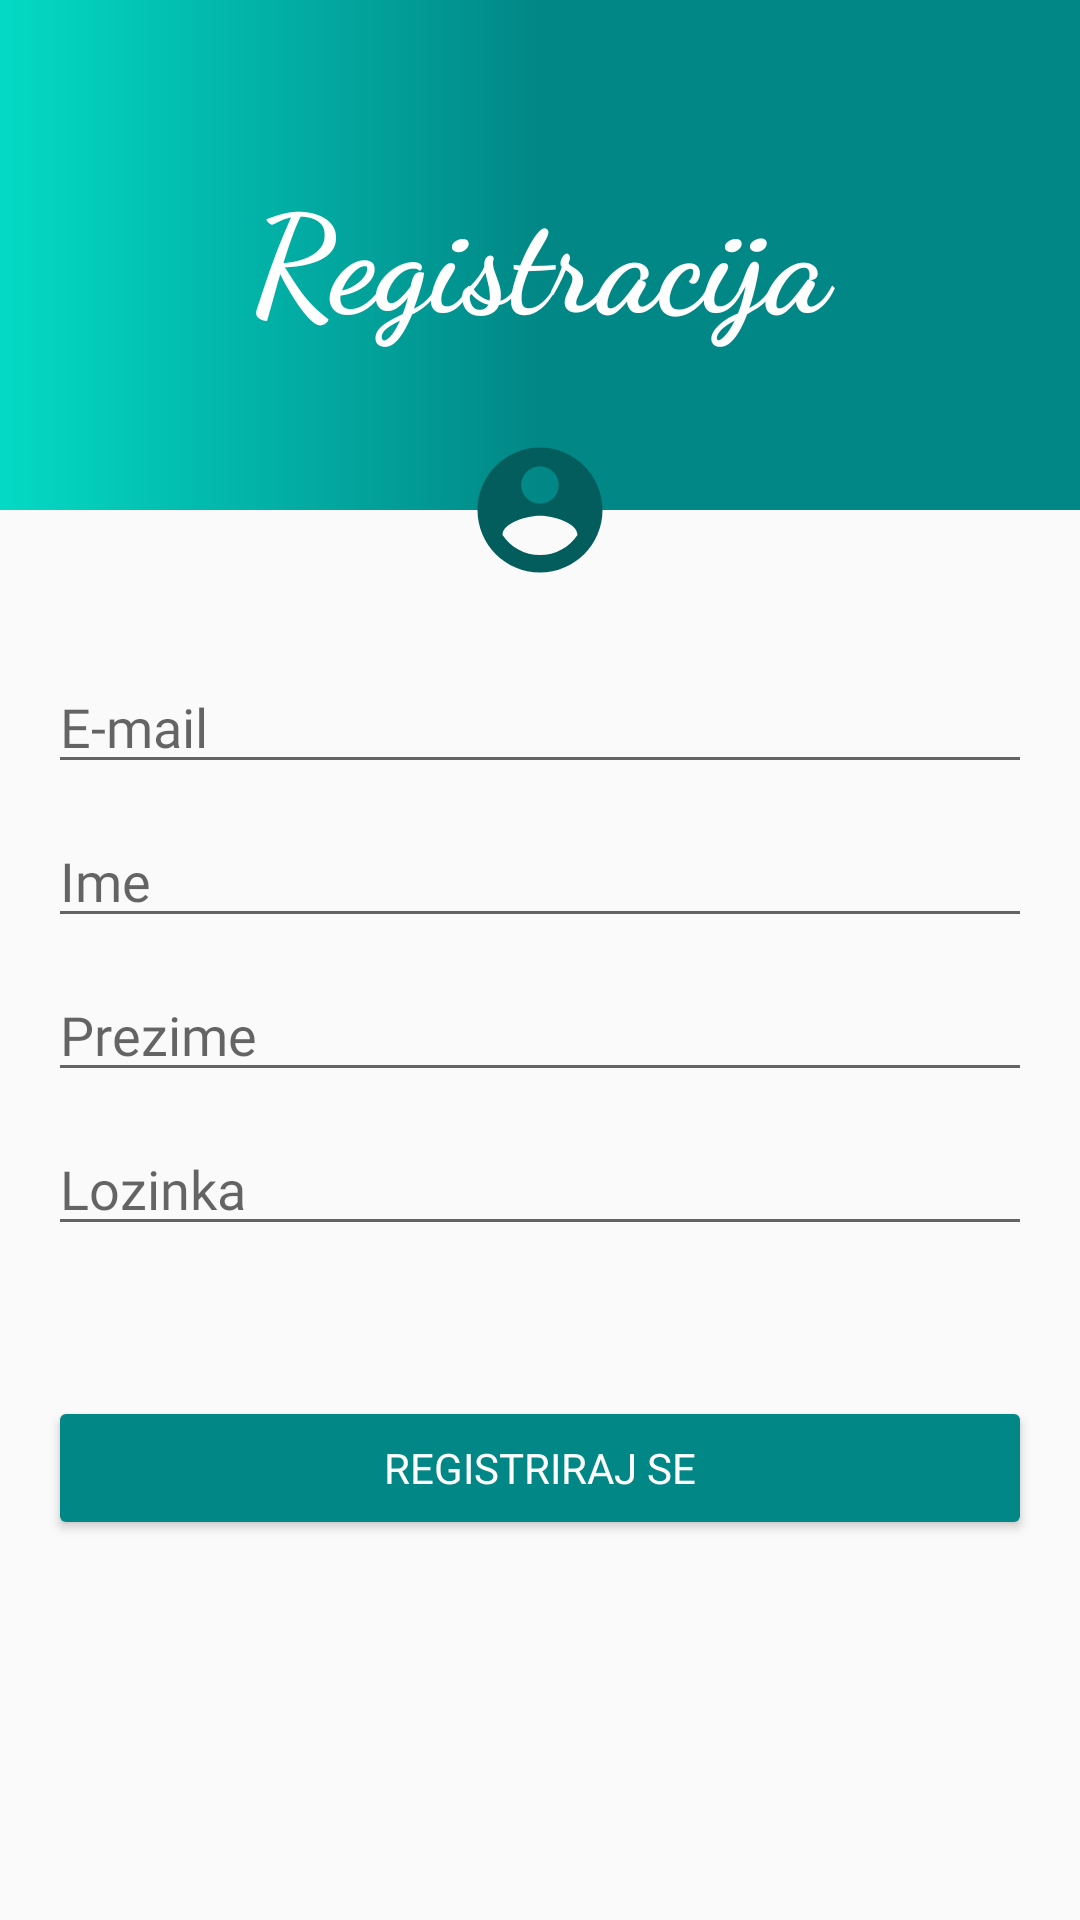

Named icons in this screenshot (1080x1920) and their centers, (x,y):
acc: (540,510)
